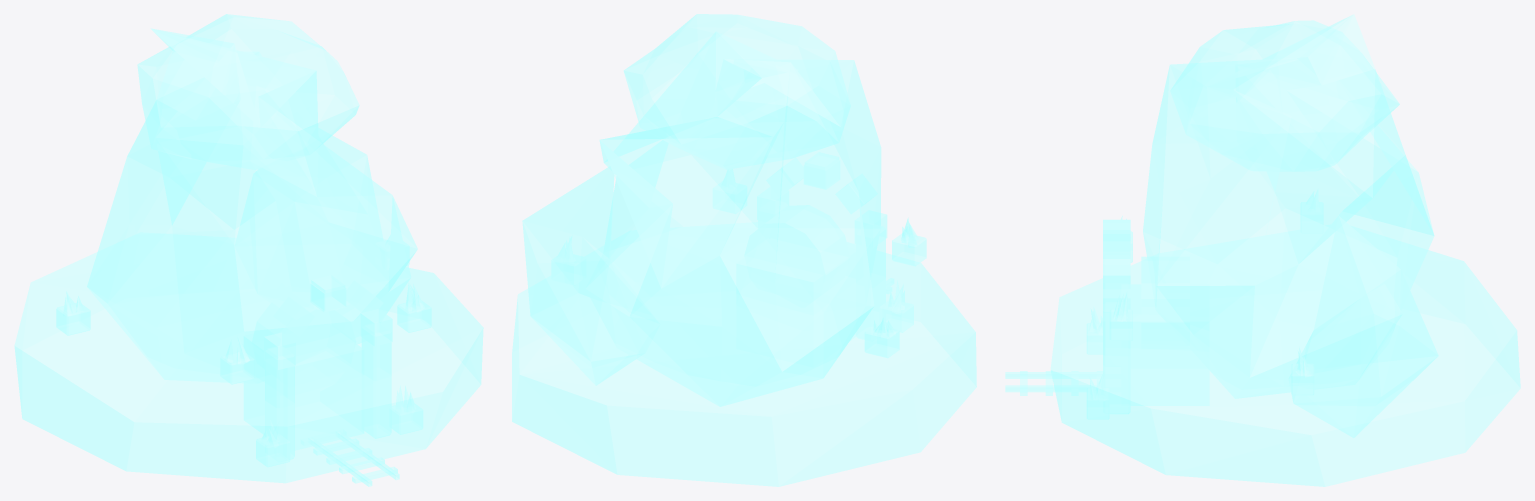
Rendered from GH_Mountain_Diamond.fbx.
The picture shows the model from 3 angles, left to right: view 1: azimuth 30°, elevation 25°; view 2: azimuth 150°, elevation 25°; view 3: azimuth 270°, elevation 25°; orthographic projection.
Visible parts, largest first — view 1: SM_Mountain_Diamond; view 2: SM_Mountain_Diamond; view 3: SM_Mountain_Diamond.
Boxes of the visible parts, x1=… form: SM_Mountain_Diamond: x1=14, y1=14, x2=483, y2=486; SM_Mountain_Diamond: x1=512, y1=14, x2=976, y2=486; SM_Mountain_Diamond: x1=1005, y1=14, x2=1520, y2=486.
Bounding box in the file's own units: 10.05 × 8.66 × 11.09.
